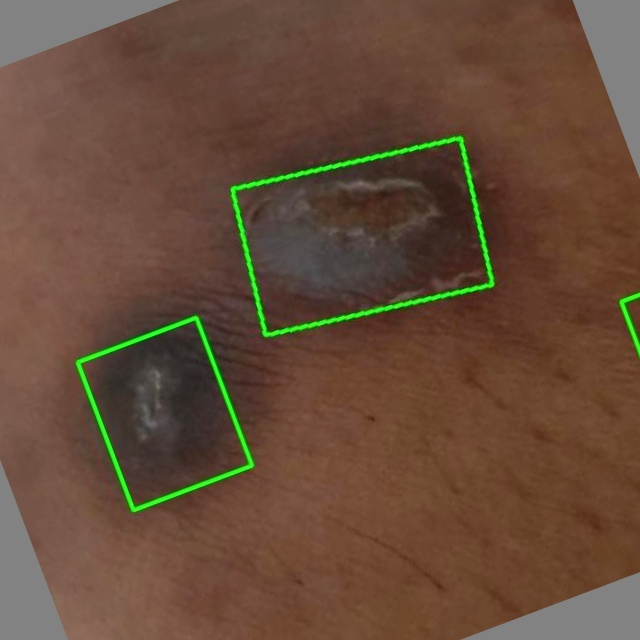Contact Dermatitis: (231, 137, 492, 335), (77, 317, 252, 510)
